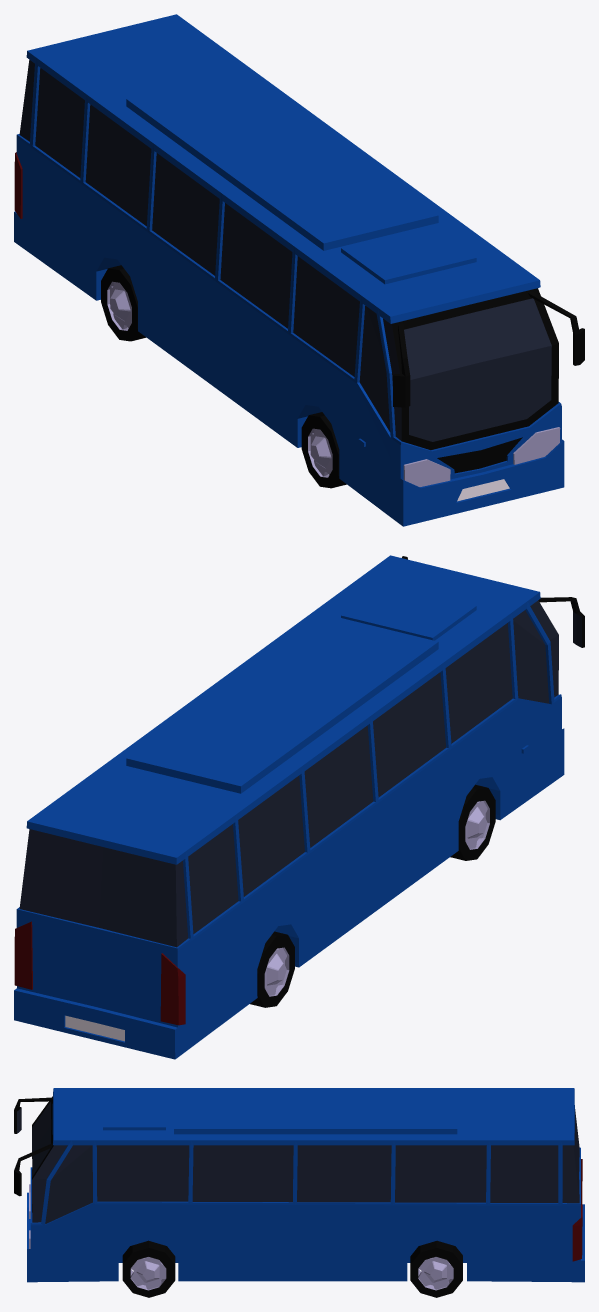
Rendered from bus.glb.
The picture shows the model from 3 angles, top to bottom: view 1: azimuth 30°, elevation 25°; view 2: azimuth 150°, elevation 25°; view 3: azimuth 270°, elevation 25°; orthographic projection. The views are drawn at different scales.
Parts seen in each view (by area): view 1: Bus, Bus_wheel_front_right, Bus_wheel_rear_right; view 2: Bus, Bus_wheel_rear_right, Bus_wheel_front_right; view 3: Bus, Bus_wheel_front_left, Bus_wheel_rear_left.
Part boxes in pixels (x1,y1,x2,y2): Bus: (14,14,584,526); Bus_wheel_front_right: (301,412,346,488); Bus_wheel_rear_right: (101,265,146,341); Bus: (14,555,584,1059); Bus_wheel_rear_right: (250,931,294,1007); Bus_wheel_front_right: (450,784,495,860); Bus: (14,1088,584,1282); Bus_wheel_front_left: (122,1240,175,1297); Bus_wheel_rear_left: (410,1240,462,1297).
Bounding box in the file's own units: 1.28 × 1.44 × 4.6.
